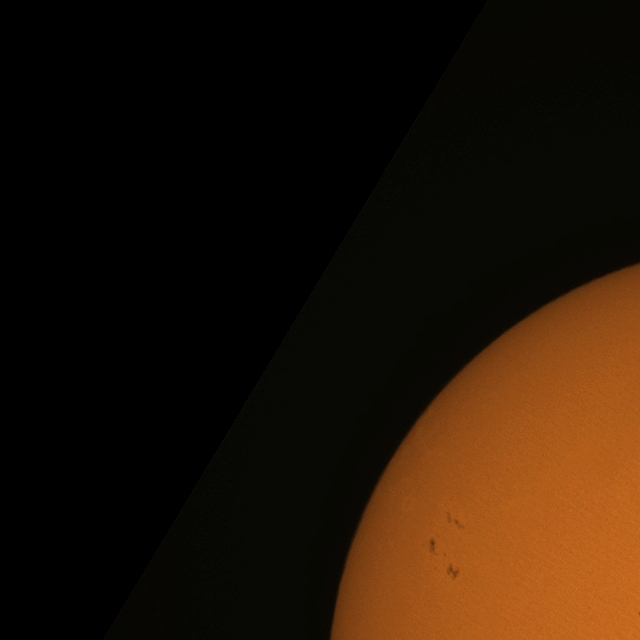sunspot: (446, 562, 461, 581), (447, 514, 464, 530)
